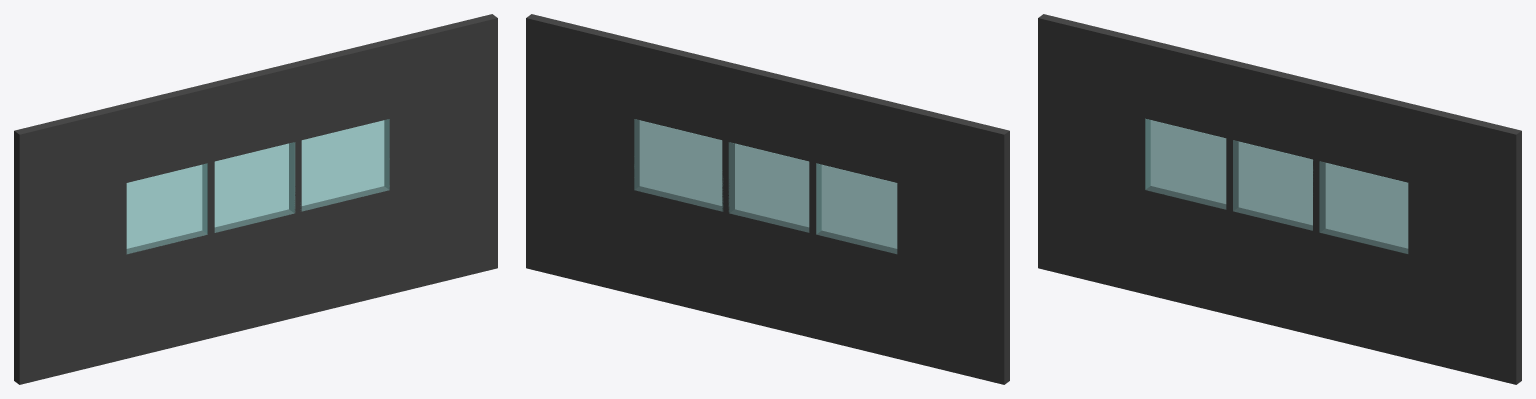
The model's file is Wall_Glass.fbx.
3 renders of one model, left to right at view 1: azimuth 30°, elevation 25°; view 2: azimuth 150°, elevation 25°; view 3: azimuth 330°, elevation 25°, orthographic.
Visible parts, largest first — view 1: pCube1, pCube4, pCube3, pCube2; view 2: pCube1, pCube4, pCube2, pCube3; view 3: pCube1, pCube4, pCube2, pCube3.
Part boxes in pixels (x1,y1,x2,y2): pCube1: (14, 14, 497, 384); pCube4: (301, 119, 389, 211); pCube3: (214, 142, 295, 232); pCube2: (126, 163, 207, 253); pCube1: (526, 14, 1009, 384); pCube4: (634, 119, 723, 211); pCube2: (816, 163, 897, 253); pCube3: (728, 142, 809, 232); pCube1: (1038, 14, 1521, 384); pCube4: (1319, 161, 1408, 253); pCube2: (1145, 118, 1226, 209); pCube3: (1233, 140, 1313, 230).
Size of the model in its own units: 10 by 5 by 0.2.
